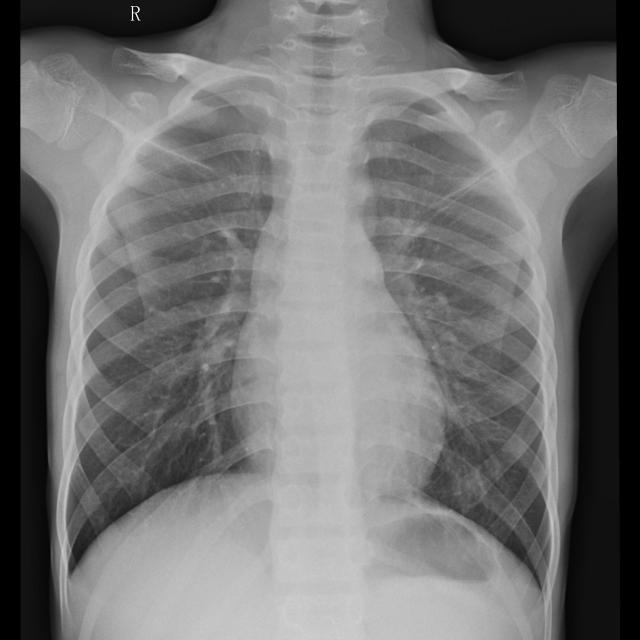no-pneumonia: (67, 97, 275, 566), (365, 104, 552, 583)
